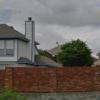Chimney: (14, 10, 51, 48)
